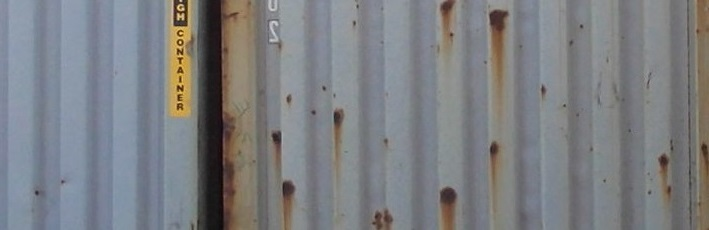container_no_door: (218, 3, 703, 226), (1, 3, 198, 229)
